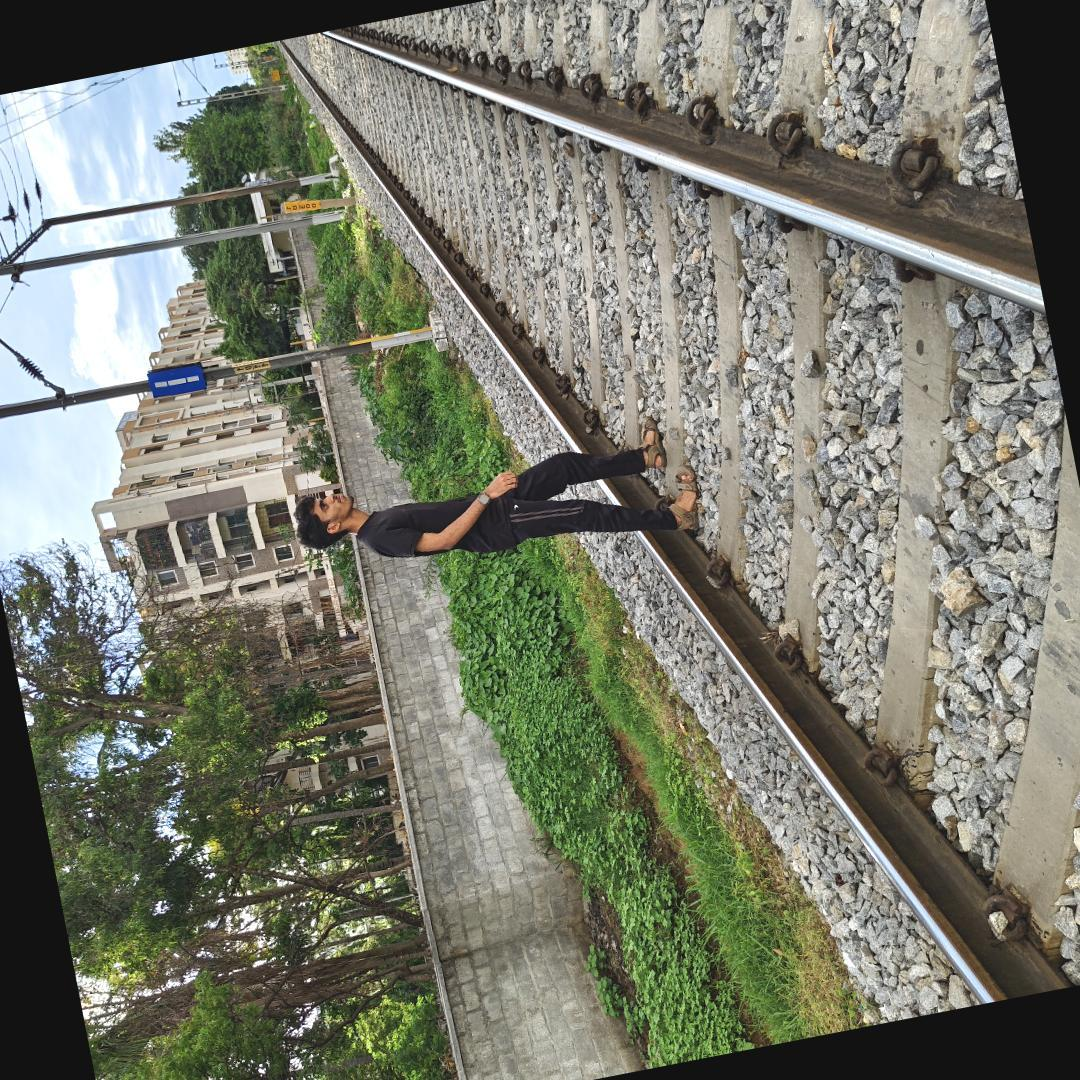standing: (249, 405, 716, 581)
